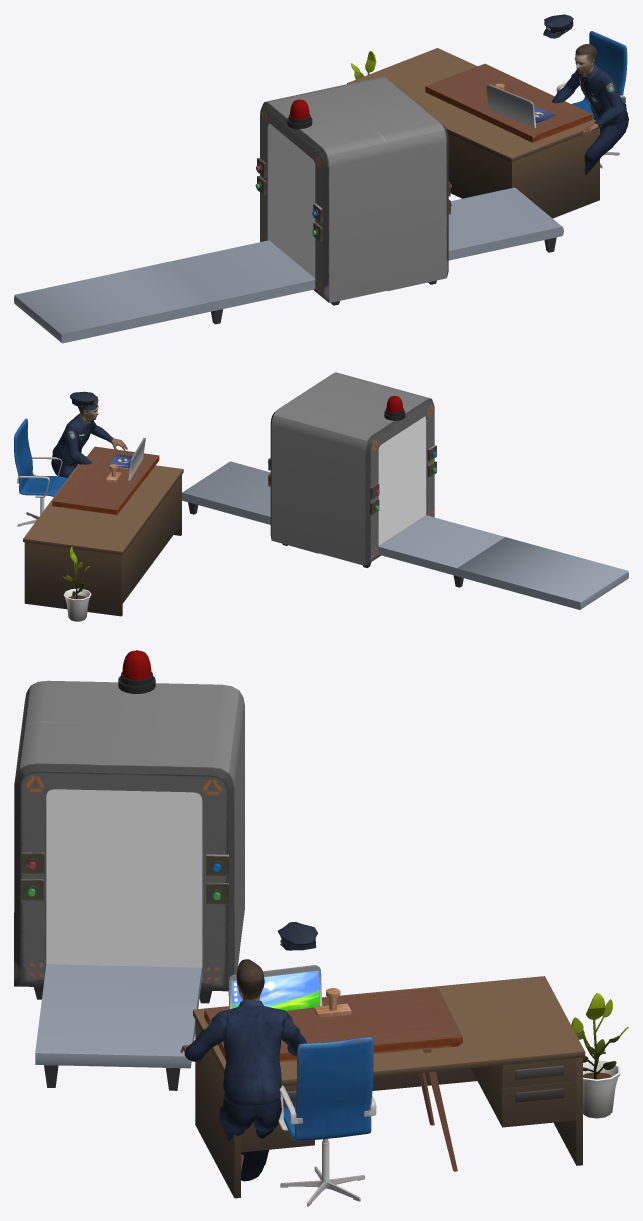
The model's file is XRAY MACHINE.fbx.
The picture shows the model from 3 angles, top to bottom: view 1: azimuth 30°, elevation 25°; view 2: azimuth 150°, elevation 25°; view 3: azimuth 270°, elevation 25°; orthographic projection. The views are drawn at different scales.
Visible parts, largest first — view 1: Xray_Main, Table_OfficeDesk2, Rolling, Rolling__1_, MachineDoors, table_3, Man_11, chair, Laptop_On, Siren, policecap; view 2: Xray_Main, Table_OfficeDesk2, Rolling, Rolling__1_, MachineDoors, table_3, Man_11, chair, PlantPotLargeA, Siren, policecap; view 3: Xray_Main, MachineDoors, Table_OfficeDesk2, Rolling, Man_11, chair, table_3, Laptop_On, PlantPotLargeA, PlantTypeA, Siren, policecap.
Boxes of the visible parts, x1,y1,x2,y2 form: Xray_Main: (211, 76, 556, 324); Table_OfficeDesk2: (347, 48, 601, 218); Rolling: (170, 187, 563, 310); Rolling__1_: (14, 261, 216, 343); MachineDoors: (268, 123, 315, 277); table_3: (425, 63, 592, 142); Man_11: (552, 44, 628, 175); chair: (556, 31, 627, 168); Laptop_On: (486, 84, 535, 127); Siren: (287, 99, 312, 129); policecap: (543, 14, 573, 38); Xray_Main: (188, 372, 463, 587); Table_OfficeDesk2: (23, 456, 183, 616); Rolling: (182, 461, 504, 575); Rolling__1_: (456, 537, 628, 609); MachineDoors: (378, 416, 426, 545); table_3: (52, 446, 159, 514); Man_11: (51, 398, 127, 478); chair: (14, 418, 67, 526); PlantPotLargeA: (63, 588, 91, 621); Siren: (384, 396, 405, 420); policecap: (70, 391, 97, 410); Xray_Main: (14, 680, 244, 1090); MachineDoors: (46, 789, 202, 967); Table_OfficeDesk2: (193, 976, 585, 1198); Rolling: (35, 964, 202, 1068); Man_11: (180, 959, 306, 1181); chair: (278, 1036, 376, 1206); table_3: (204, 987, 462, 1171); Laptop_On: (228, 965, 322, 1010); PlantPotLargeA: (583, 1060, 620, 1118); PlantTypeA: (571, 992, 628, 1079); Siren: (118, 650, 155, 693); policecap: (277, 921, 317, 950).
Size of what is drawn, in the model's own units: 474 by 146 by 266.
